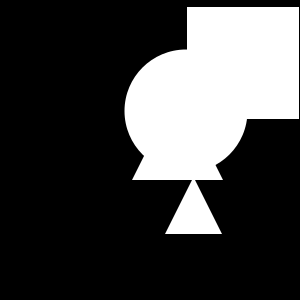circle: (187, 7, 299, 119)
rectangle: (125, 50, 248, 172), (181, 82, 237, 138)
triangle: (132, 89, 223, 180), (165, 177, 222, 234)
